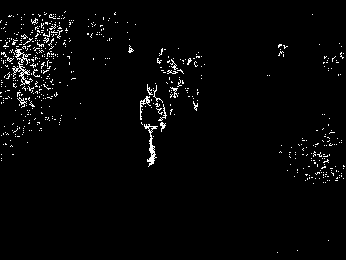person: (138, 81, 172, 171)
